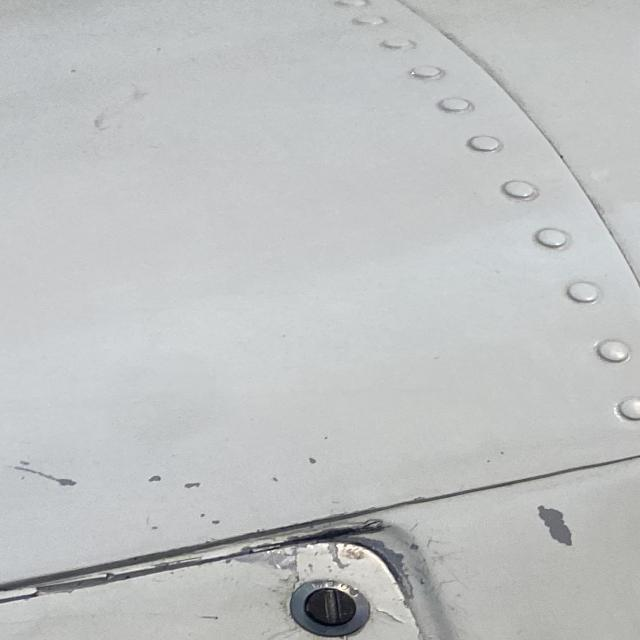Paint-off: (3, 459, 72, 485), (535, 504, 570, 545), (306, 457, 316, 465)
